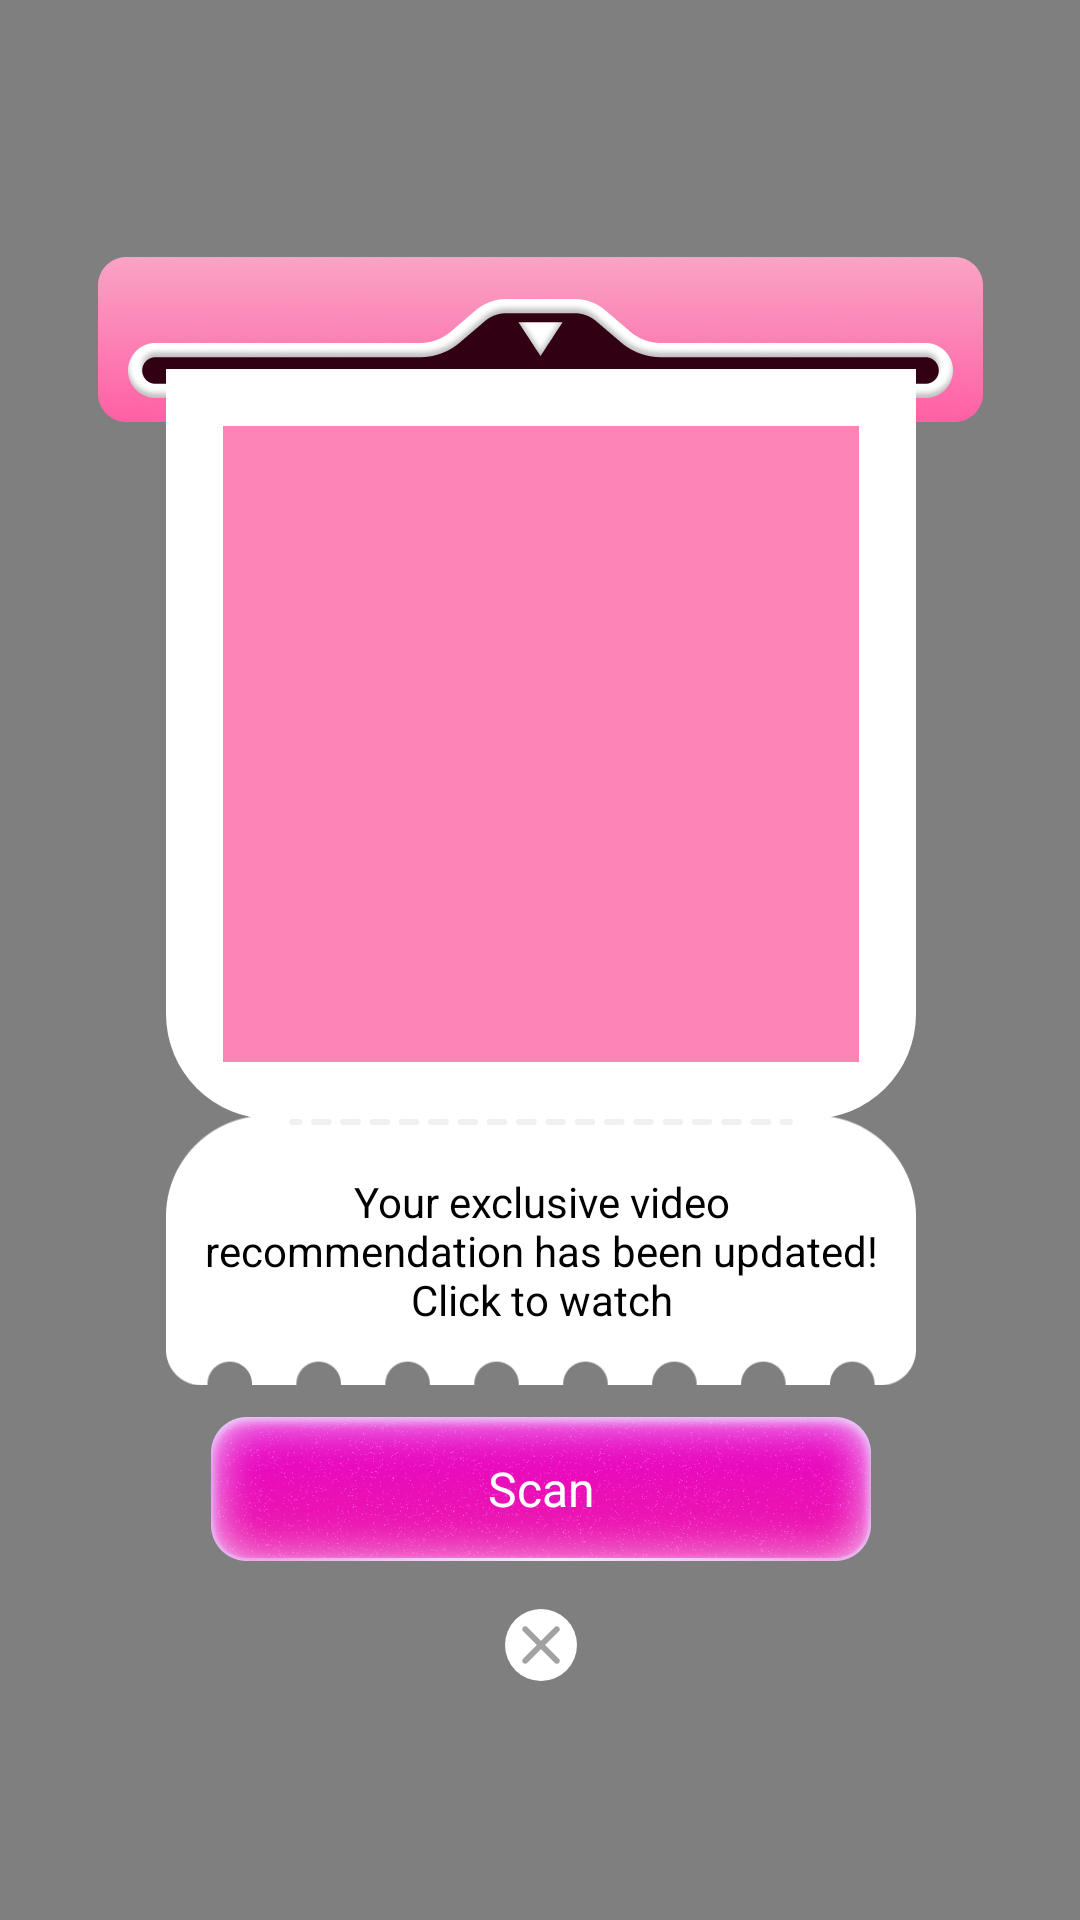

Named icons in this screenshot (1080px×1920px) and their bounding boxes, (x1, y1, x2, y2):
close: (505, 1609, 577, 1681)
